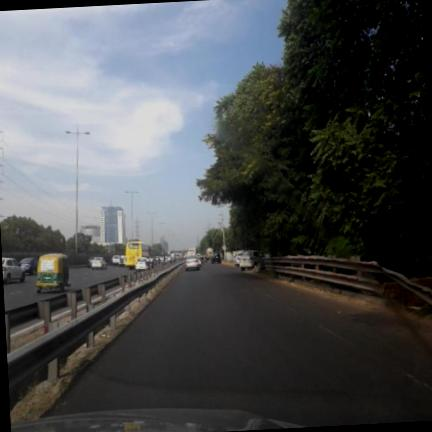Road: (51, 264, 431, 426), (3, 276, 56, 311)
